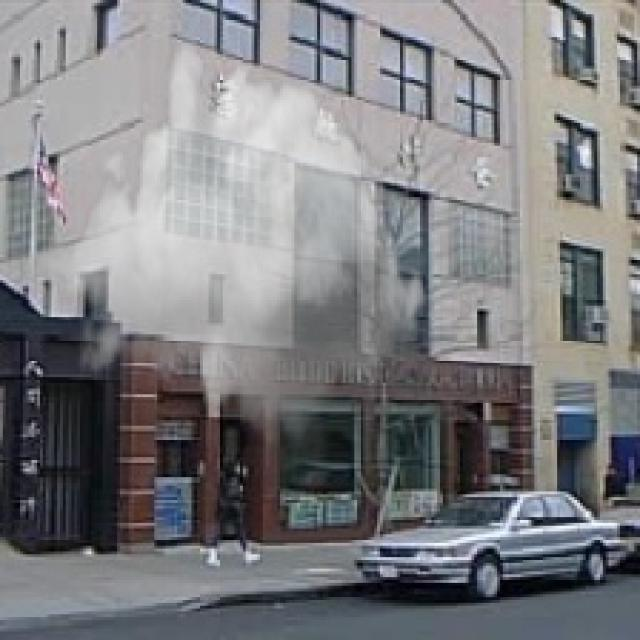smoke: (40, 34, 431, 457)
